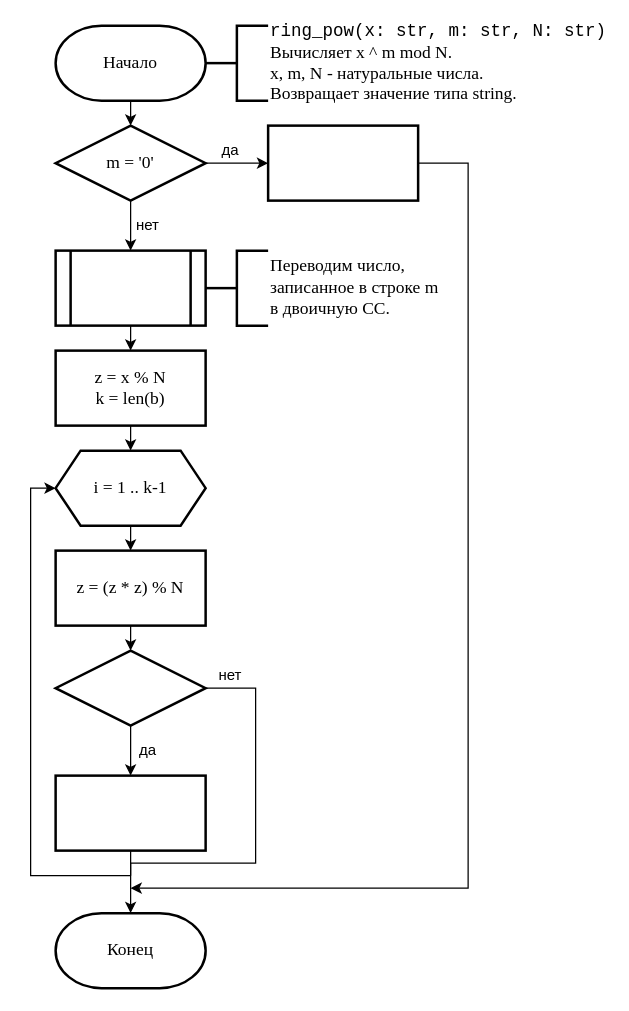
Some shapes in this 629 by 1011 pixel diagram are drawn without their labels. Here are the shapes that lost their labels. From the top down, the centre of each, then its label:
(x=342, y=162): z = '1'
(x=130, y=287): b = dec_to_bin(m)
(x=130, y=687): b[i] = '1'
(x=130, y=812): z = (z * x) % N
